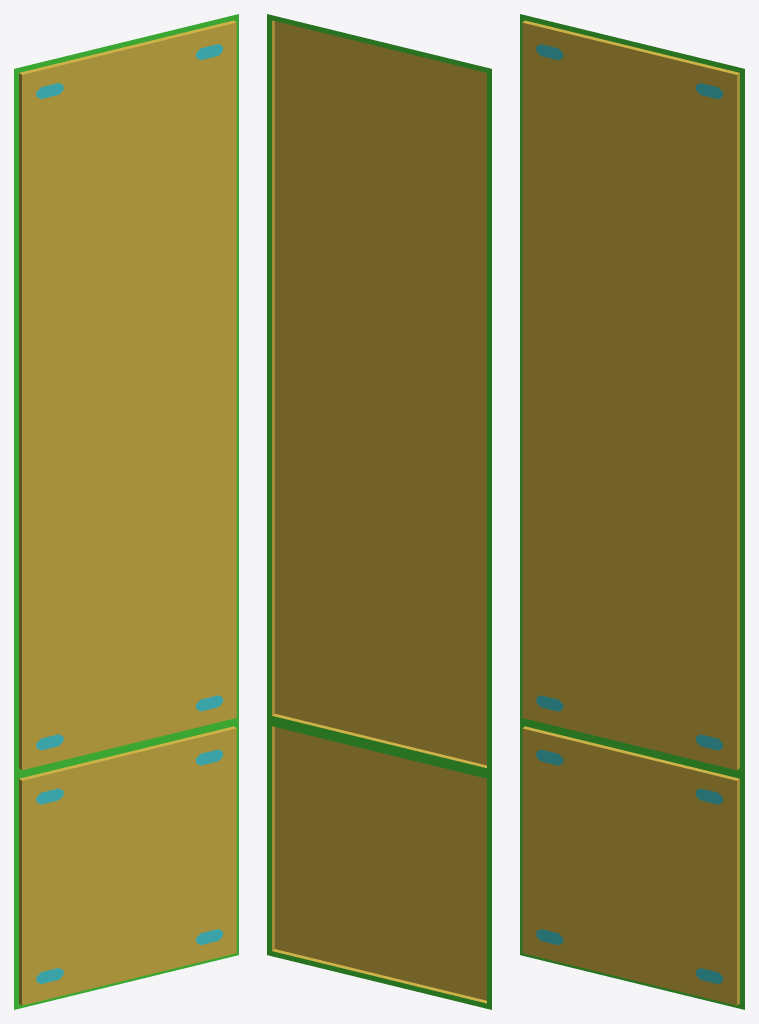
File: Wall_49_E.fbx
3 views of the same model, side by side, from view 1: azimuth 30°, elevation 25°; view 2: azimuth 150°, elevation 25°; view 3: azimuth 330°, elevation 25° (orthographic).
Visible parts, largest first — view 1: Wall_49_E; view 2: Wall_49_E; view 3: Wall_49_E.
Boxes of the visible parts, x1,y1,x2,y2 form: Wall_49_E: [14, 14, 238, 1009]; Wall_49_E: [267, 14, 491, 1009]; Wall_49_E: [520, 14, 744, 1009].
Size of the model in its own units: 114 by 457 by 2.72.
